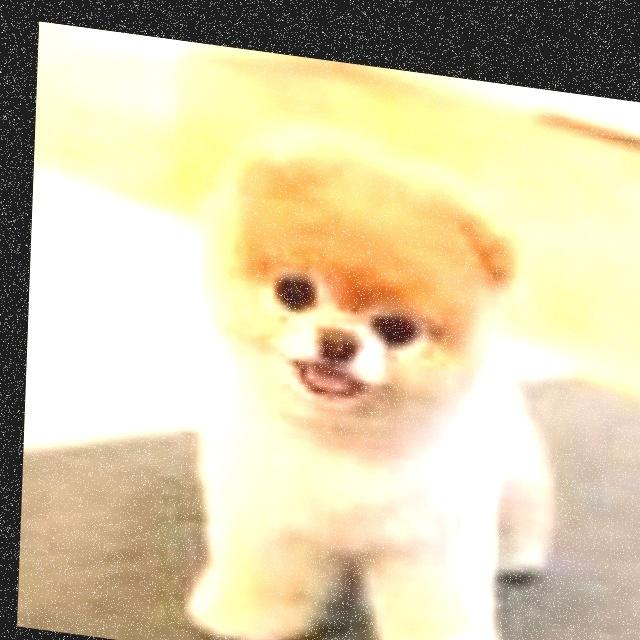dog: (171, 101, 559, 469)
